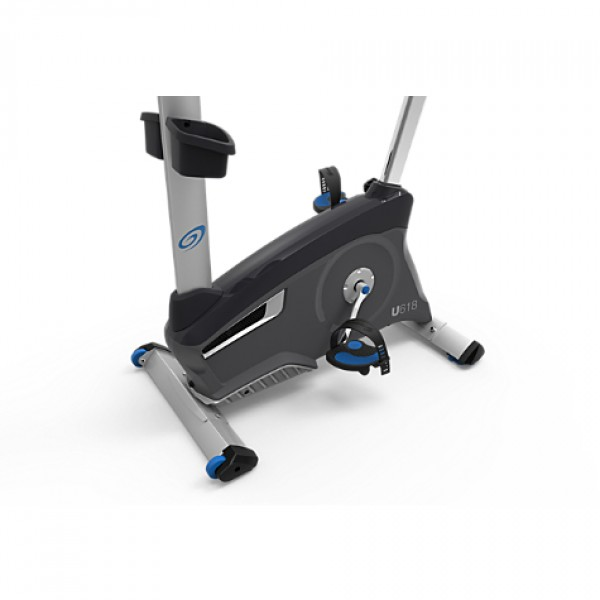gym_bike: (105, 76, 490, 495)
